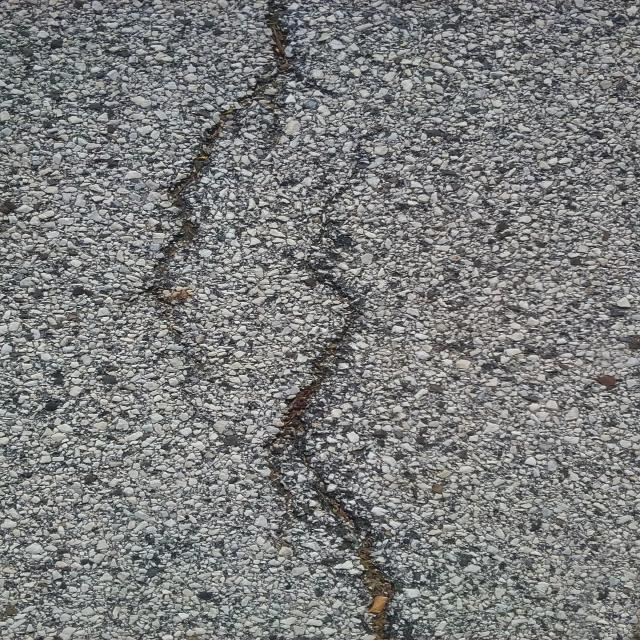Longitudial: (133, 0, 327, 366), (267, 236, 418, 640)
